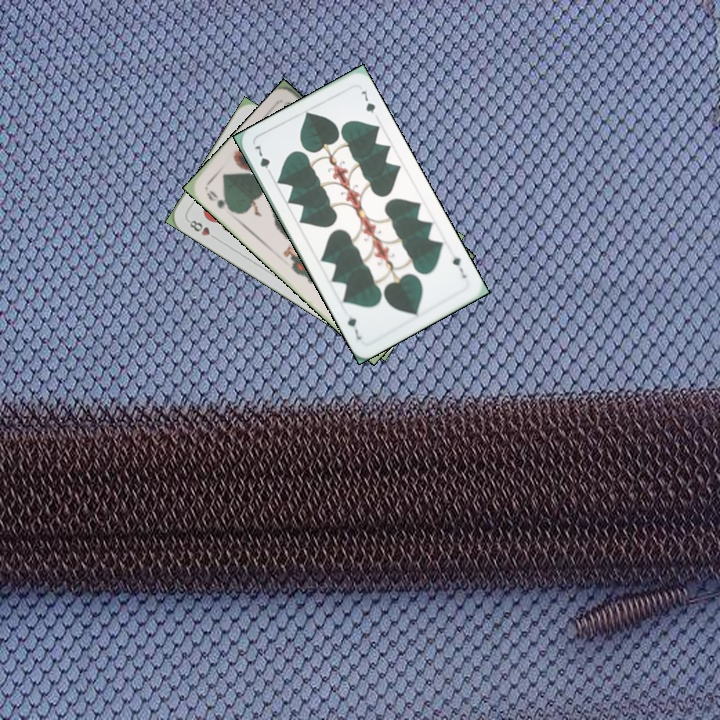G7: (250, 141, 275, 179), (448, 252, 469, 281)
GO: (202, 186, 236, 215)
H8: (184, 216, 220, 242)
